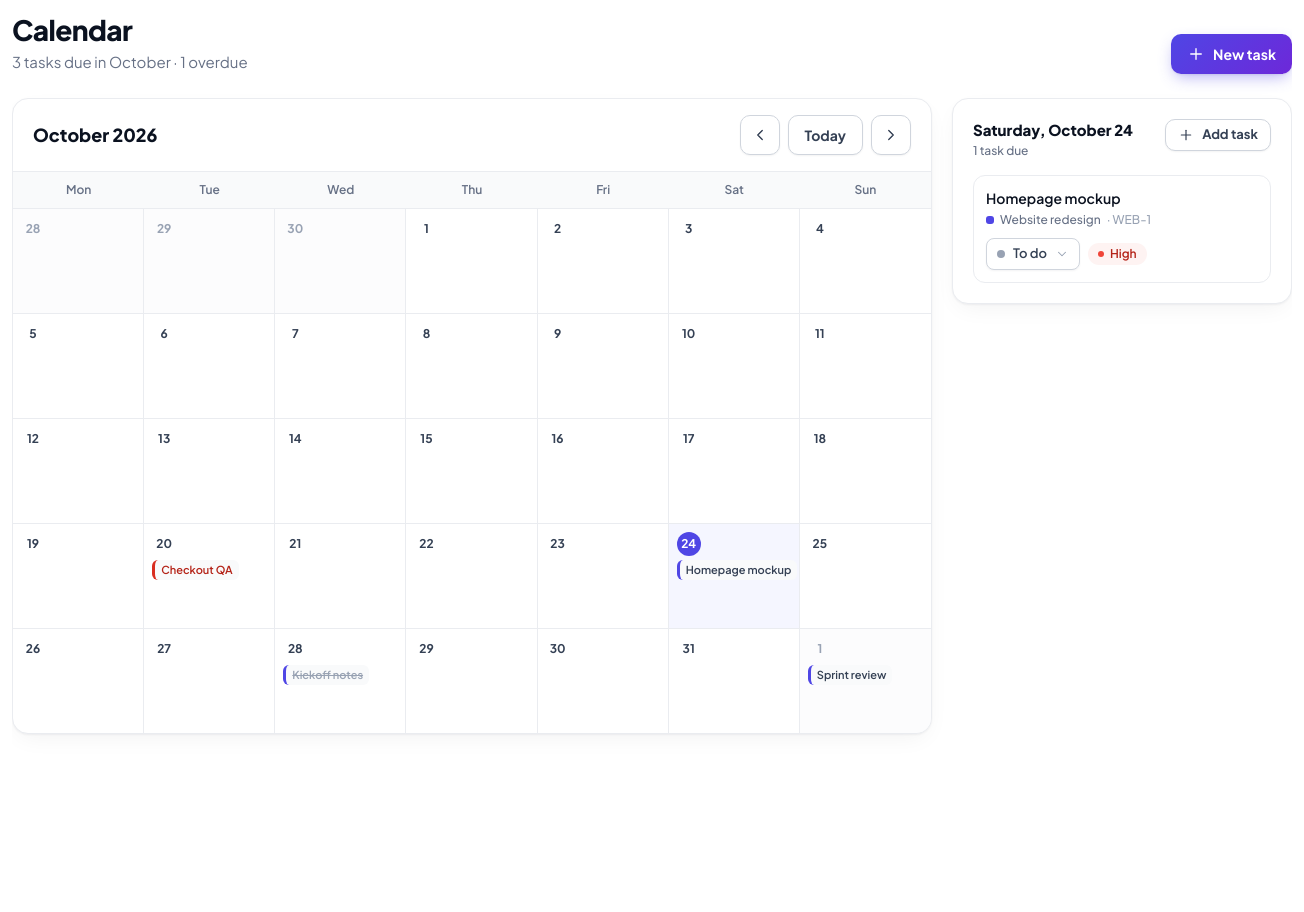
Test: Calendar page › moves to the next month
Expected: the text "3 tasks due in October · 1 overdue" is shown, [12, 51, 248, 74]
Click the button named "Next month": [891, 134] box [871, 114, 911, 154]
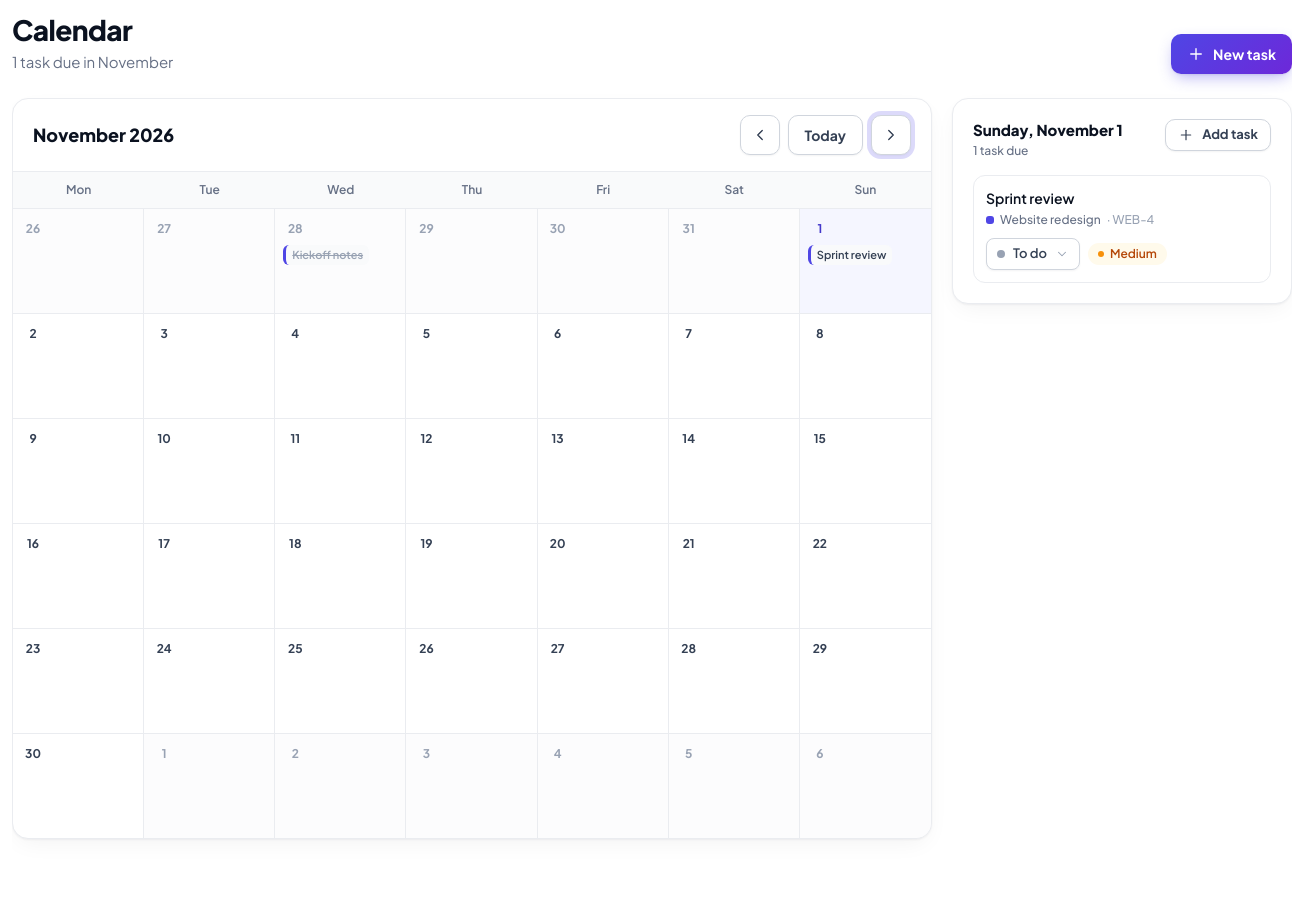
Result: the heading "November 2026" is shown at [33, 120, 174, 148]
